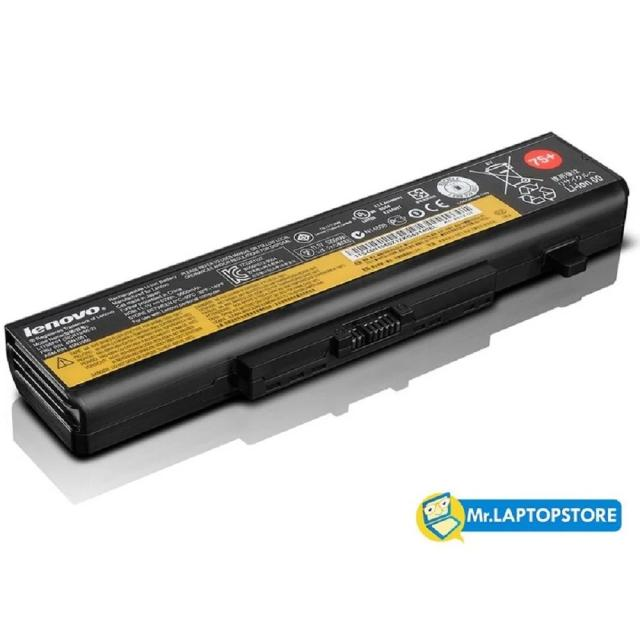electronic: (2, 28, 640, 480)
